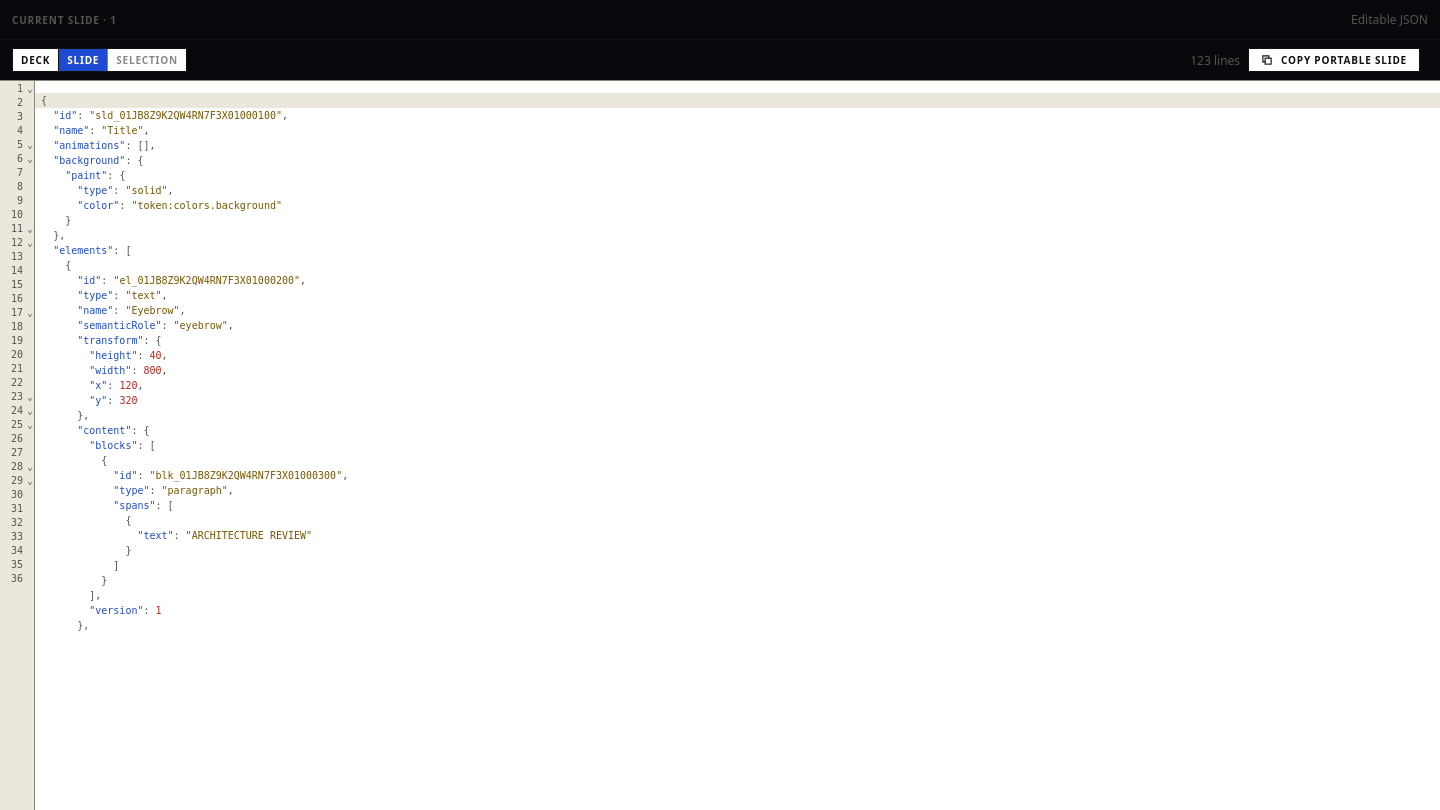
Test: Code mode › switches to the whole deck and copies the canonical clean bytes
Click the radio button labelled "Deck": click(36, 60) [13,49,58,71]
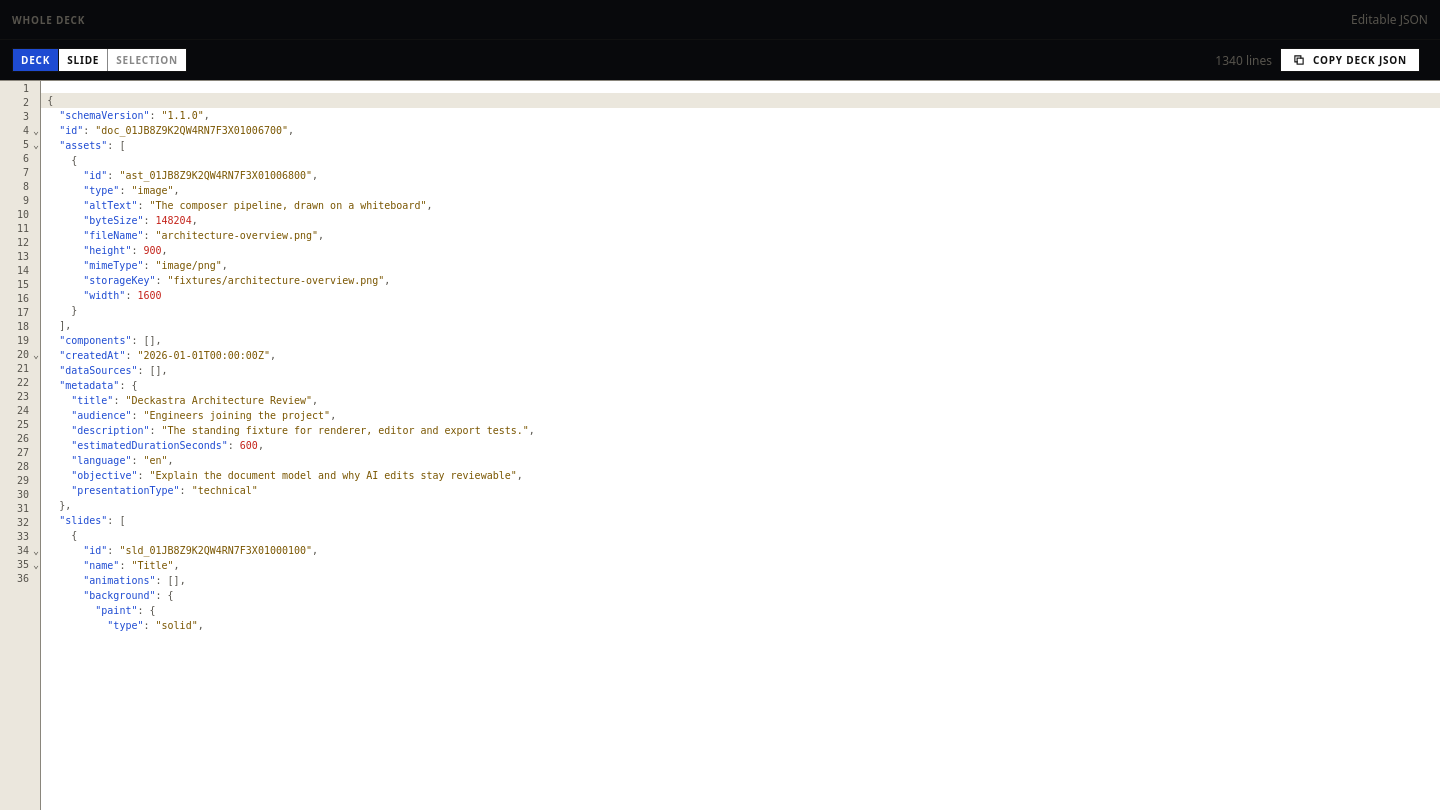
Expected: the text "Whole deck" is shown, [12,12,85,26]
Click the button with test id "code-copy": click(1350, 60) [1280,48,1420,72]
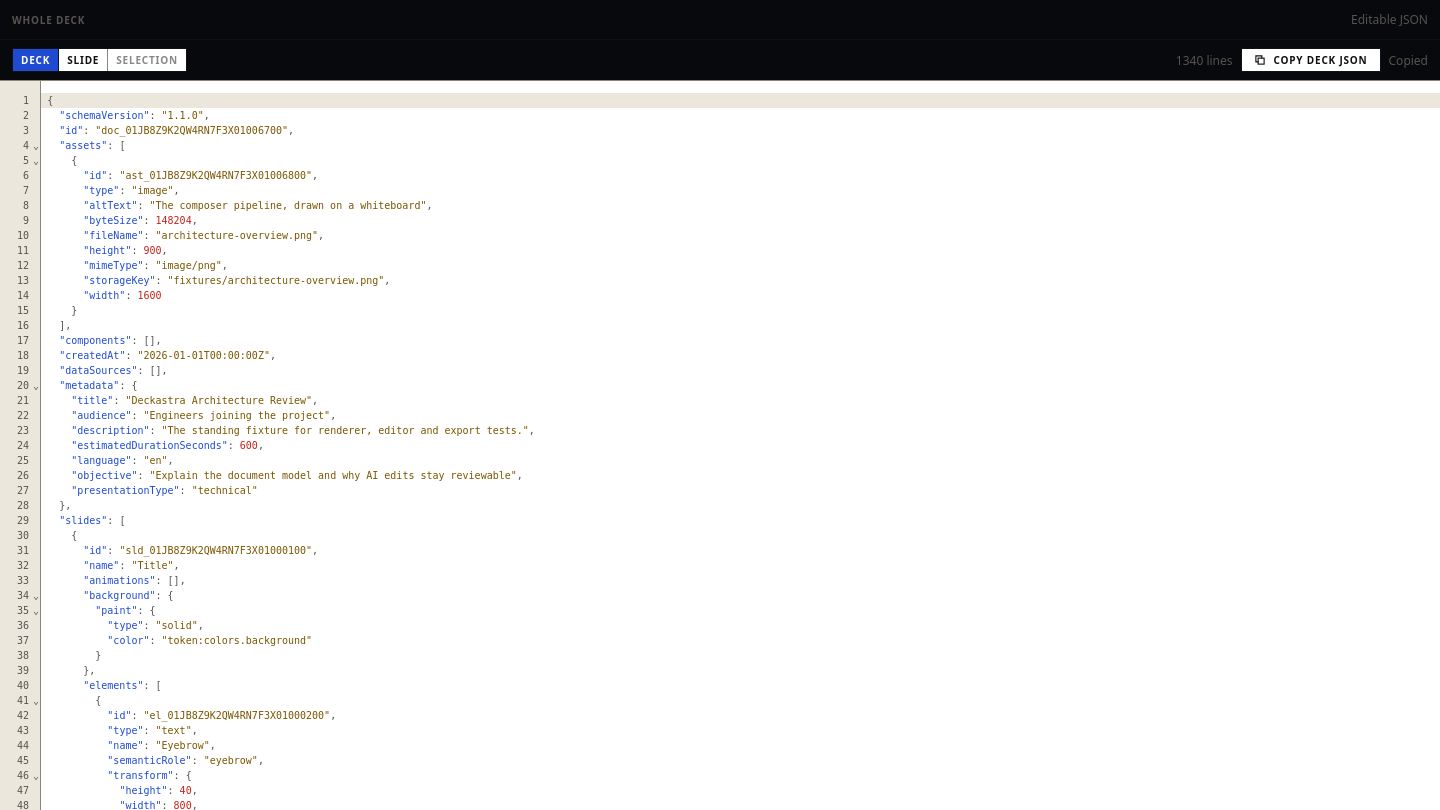
Expected: the message reads "Copied", [1388,52,1428,68]
Click the button with test id "code-copy": click(1310, 60) [1240,48,1380,72]
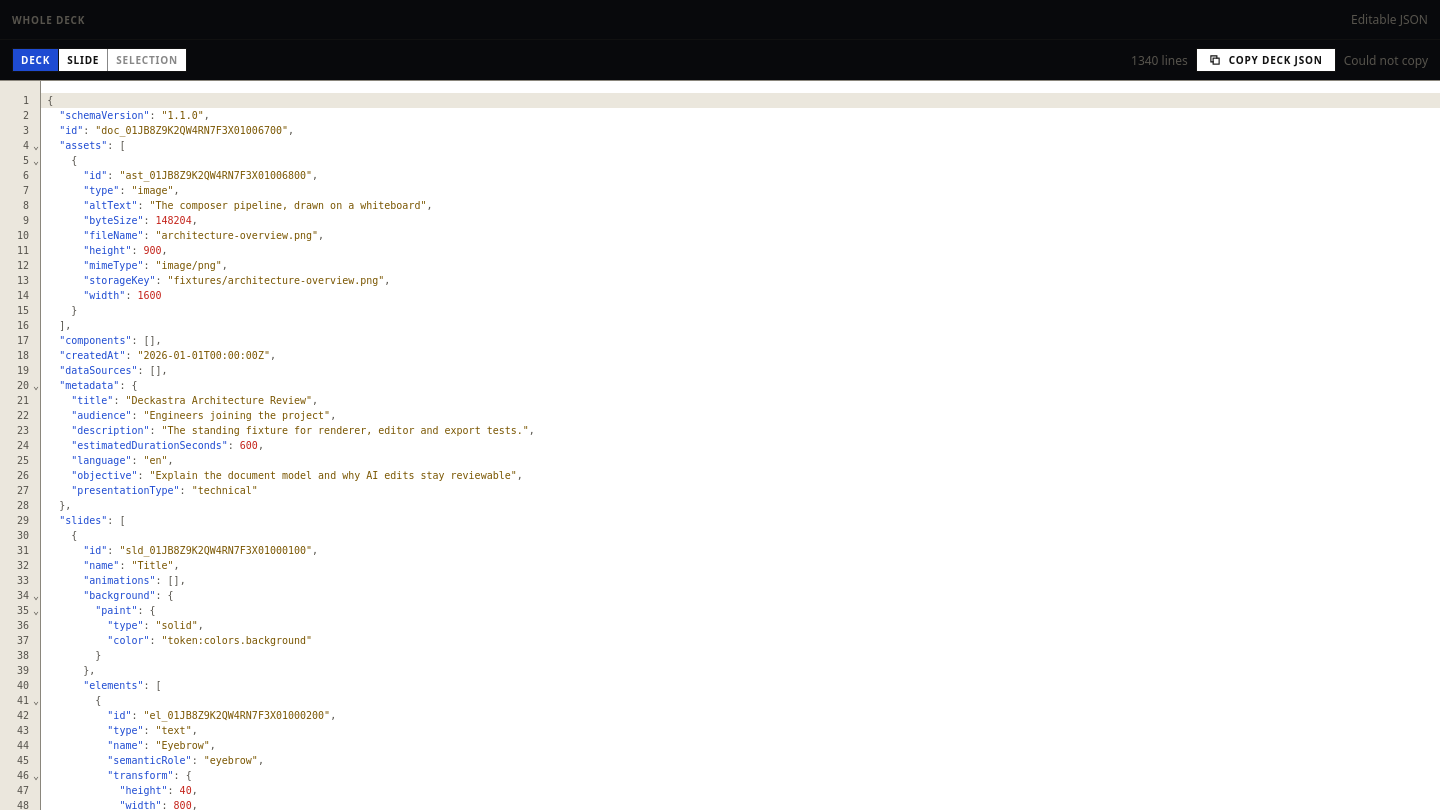
Expected: the message reads "Could not copy", [1344,52,1428,68]
